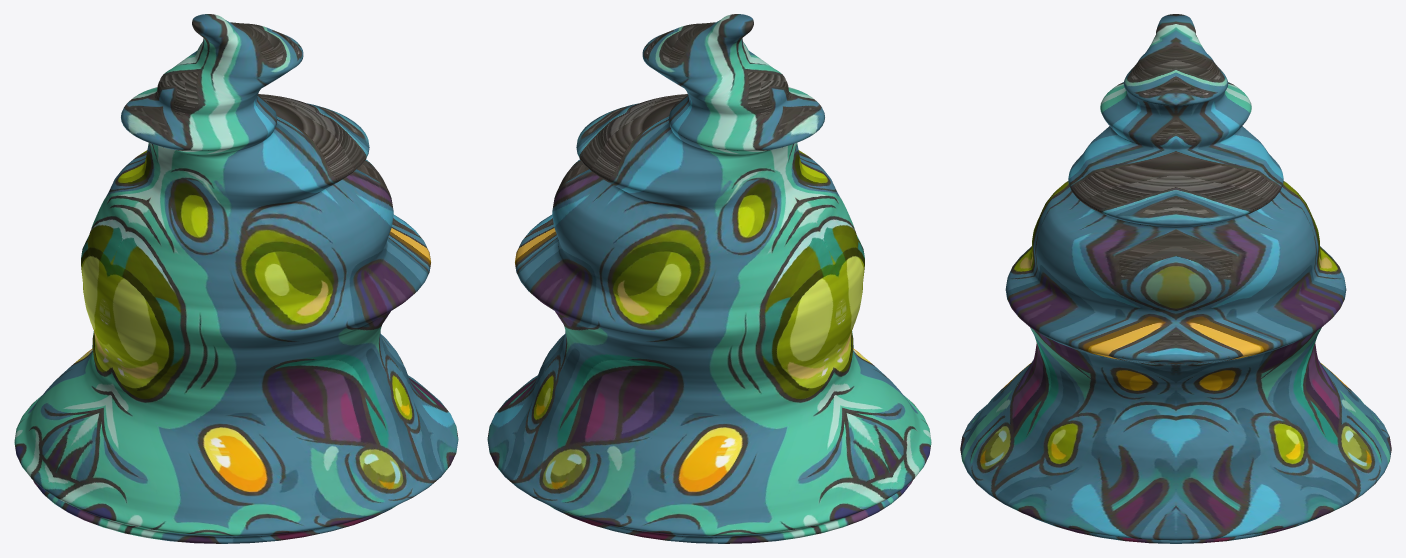
File: window_tree.glb
The picture shows the model from 3 angles, left to right: view 1: azimuth 30°, elevation 25°; view 2: azimuth 150°, elevation 25°; view 3: azimuth 270°, elevation 25°; orthographic projection. The views are drawn at different scales.
Parts seen in each view (by area): view 1: window_tree; view 2: window_tree; view 3: window_tree.
Boxes of the visible parts, x1=… form: window_tree: x1=14, y1=14, x2=458, y2=543; window_tree: x1=487, y1=14, x2=931, y2=543; window_tree: x1=960, y1=14, x2=1391, y2=543.
Size of the model in its own units: 0.9921 by 1.14 by 0.9905.
Materials: 1 (1 with a texture image).
